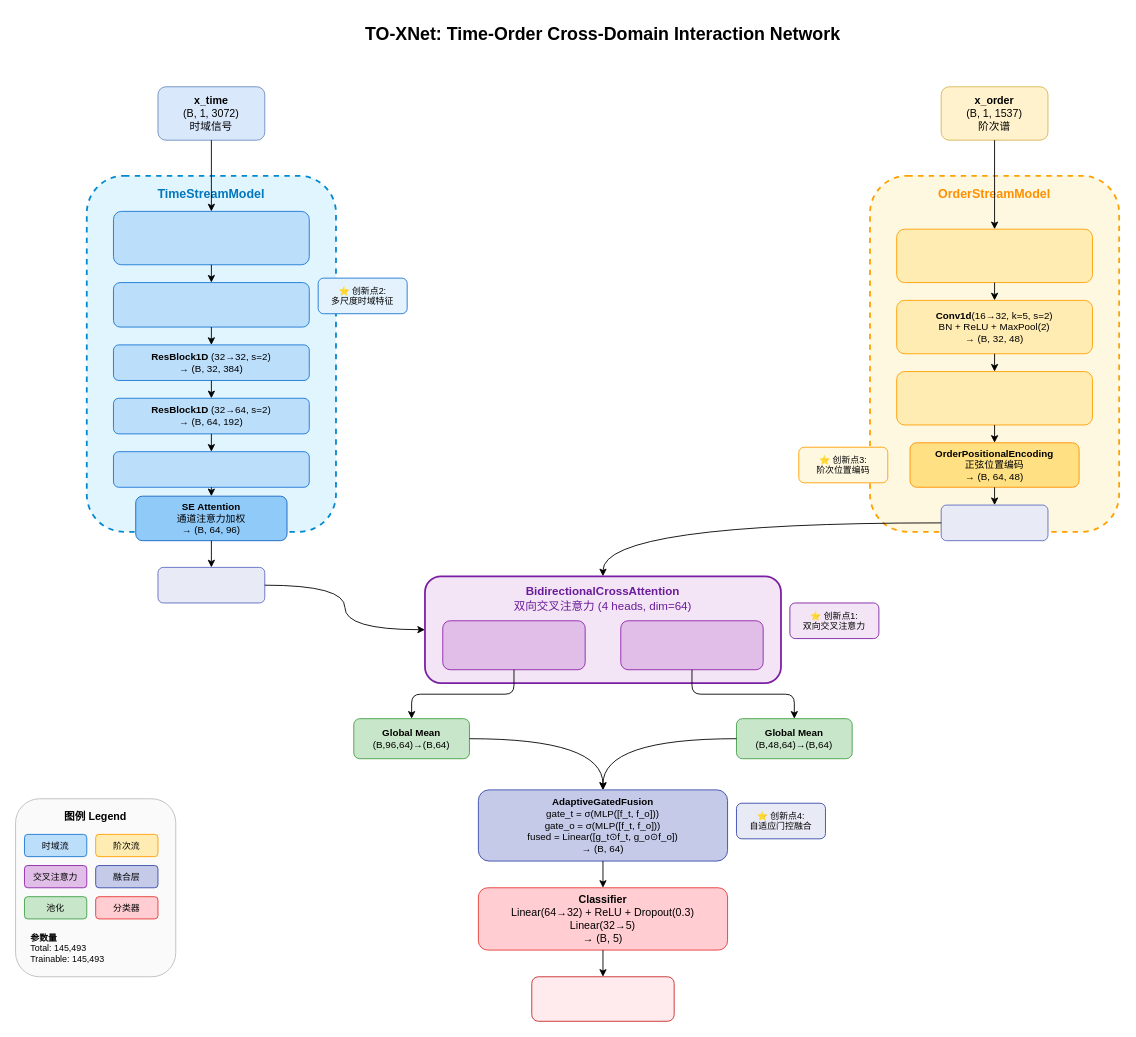
Some shapes in this 1136 by 1037 pixel diagram are drawn without their labels. The centre of each missing label's shape, as x and y in pixels:
"Conv1d (1→16, k=9, s=2) BN + ReLU + MaxPool(2) → (B, 16, 384)" goes at [994,255].
"Conv1d (32→64, k=3, s=1) BN + ReLU → (B, 64, 48)" goes at [994,398].
"Head Conv1d(1→16, k=64, s=2) BN + ReLU + MaxPool → (B, 16, 768)" goes at [211,237].
"MultiScaleConv1D k=3 | k=7 | k=15 | k=31 → (B, 32, 768)" goes at [211,304].
"Order → Time Q=f_o, K,V=f_t attn_o = softmax(QK^T)V" goes at [691,645].
"Output Logits (B, 5) 5类故障分类" goes at [602,998].
"permute (B,64,48)→(B,48,64)" goes at [994,522].
"permute (B,64,96)→(B,96,64)" goes at [211,584].
"ResBlock1D (64→64, s=2) → (B, 64, 96)" goes at [211,469].
"Time → Order Q=f_t, K,V=f_o attn_t = softmax(QK^T)V" goes at [513,645].
